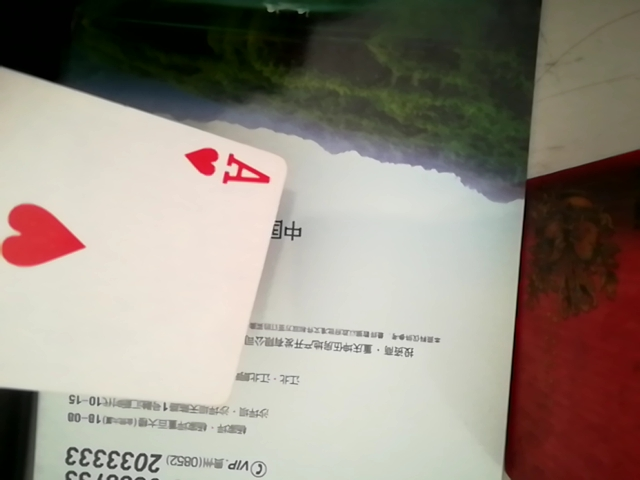hx a: (0, 49, 297, 406)
